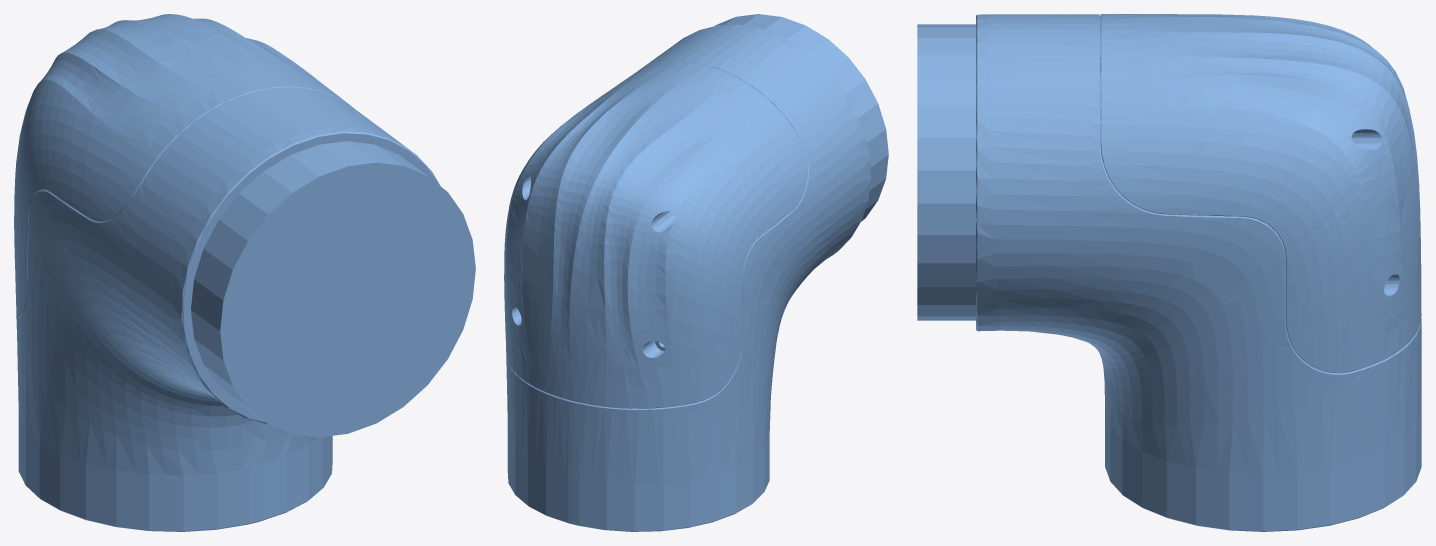
3 views of the same model, side by side, from view 1: azimuth 30°, elevation 25°; view 2: azimuth 150°, elevation 25°; view 3: azimuth 270°, elevation 25° (orthographic). The views are drawn at different scales.
Parts seen in each view (by area): view 1: Link4; view 2: Link4; view 3: Link4.
Part boxes in pixels (<box>): Link4: <box>14,14,475,531</box>; Link4: <box>504,14,888,531</box>; Link4: <box>917,14,1421,531</box>.
Bounding box in the file's own units: 0.071 × 0.1115 × 0.1065.
